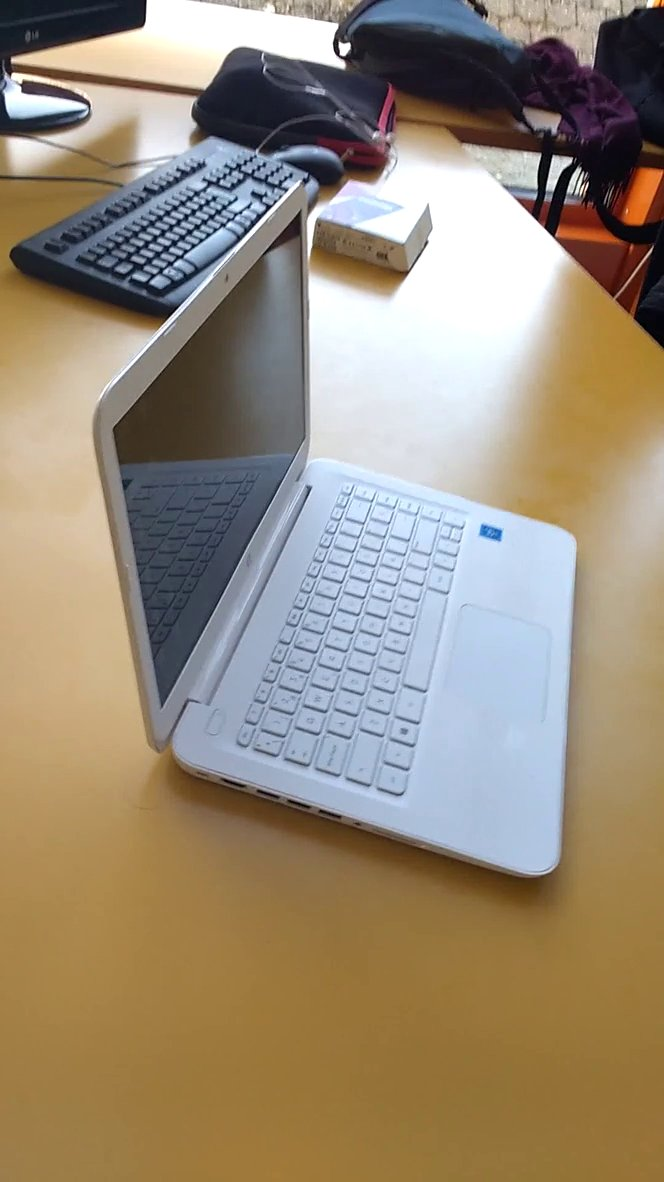laptop: (73, 167, 614, 898)
